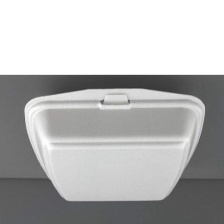foam_box: (17, 82, 212, 209)
